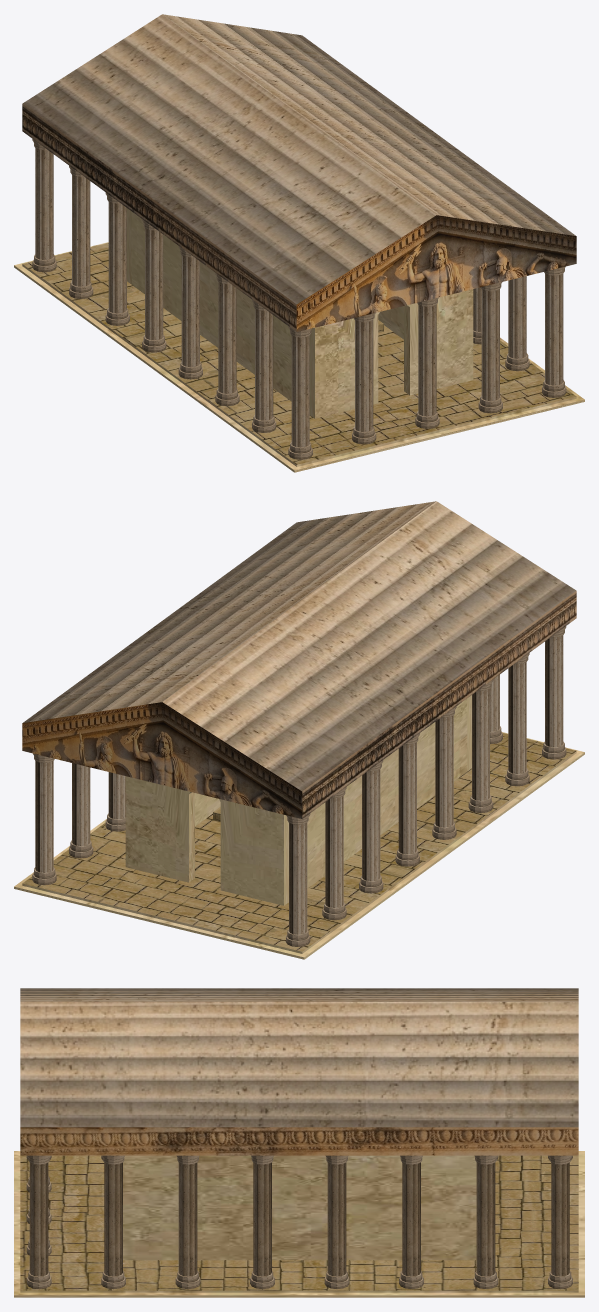
File: shrine-w.glb
3 renders of one model, top to bottom at view 1: azimuth 30°, elevation 25°; view 2: azimuth 150°, elevation 25°; view 3: azimuth 270°, elevation 25°, orthographic.
Visible parts, largest first — view 1: 立方体.021; view 2: 立方体.021; view 3: 立方体.021.
Part boxes in pixels (x1,y1,x2,y2): 立方体.021: [14, 14, 584, 472]; 立方体.021: [14, 501, 584, 959]; 立方体.021: [14, 988, 584, 1297].
Size of the model in its own units: 9.56 by 6.92 by 16.
4 materials, 4 textured.
